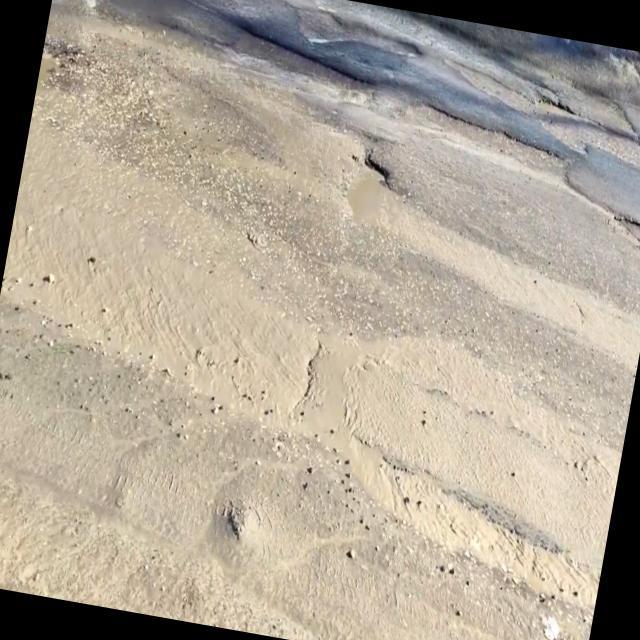Pothole: (327, 135, 397, 248)
